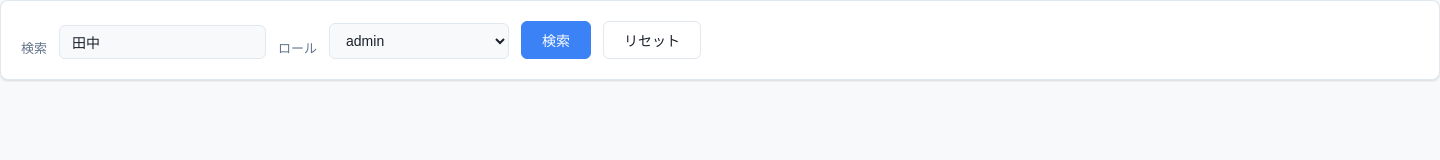
Scenario: UserSearchForm › リセットボタンでフォームがクリアされ初期状態に戻る
Click the button "リセット" at (652, 40), box x1=603 y1=21 x2=701 y2=59
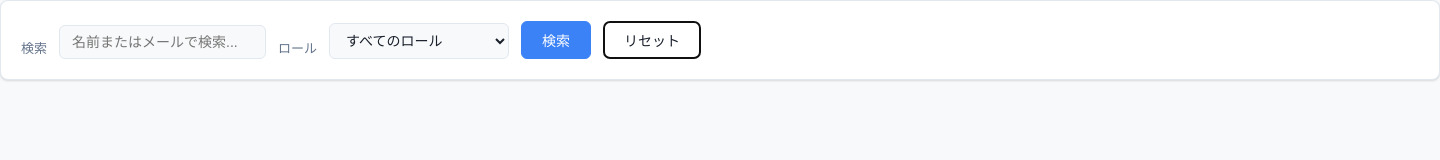
Expected: the field labelled "検索" is empty, x1=59 y1=25 x2=266 y2=59
Expected: the dropdown labelled "ロール" shows "すべてのロール", x1=329 y1=23 x2=509 y2=59
